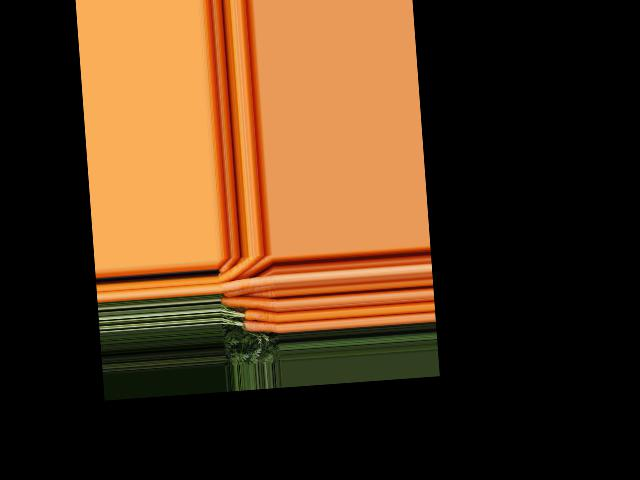carrot: (218, 256, 262, 281)
